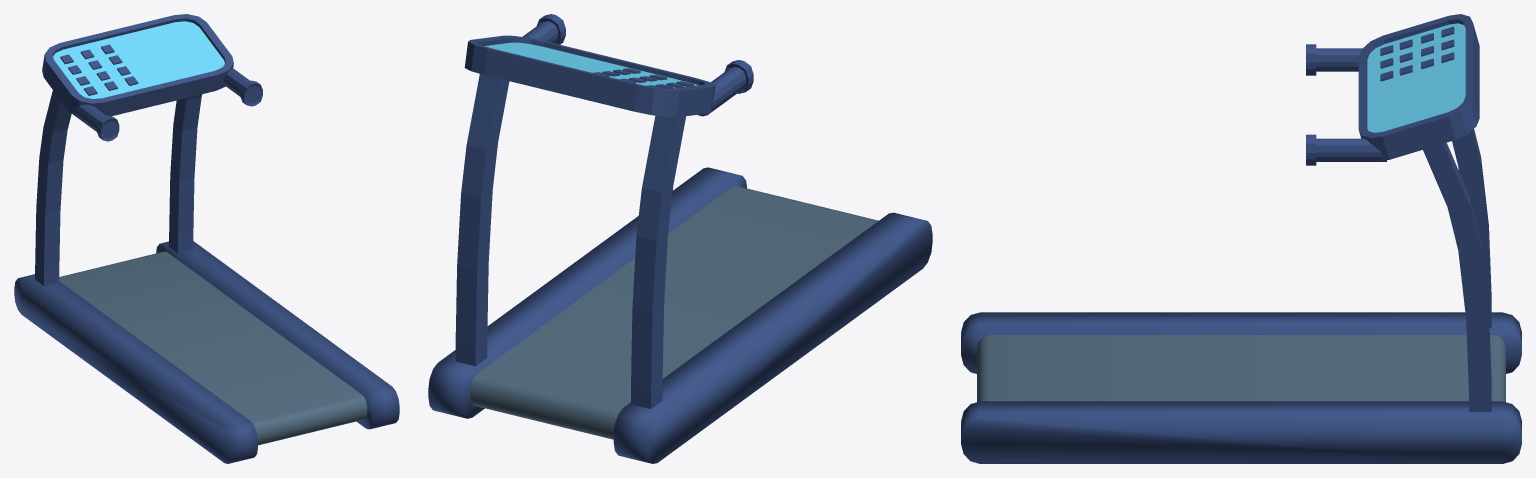
Rendered from 6 bike path.fbx.
The picture shows the model from 3 angles, left to right: view 1: azimuth 30°, elevation 25°; view 2: azimuth 150°, elevation 25°; view 3: azimuth 270°, elevation 25°; orthographic projection. The views are drawn at different scales.
Parts seen in each view (by area): view 1: 5 bike path; view 2: 5 bike path; view 3: 5 bike path.
Boxes of the visible parts, <box> form: 5 bike path: <box>14,14,399,463</box>; 5 bike path: <box>428,14,932,463</box>; 5 bike path: <box>961,14,1521,463</box>.
Size of the model in its own units: 30.64 by 47.77 by 68.88.
